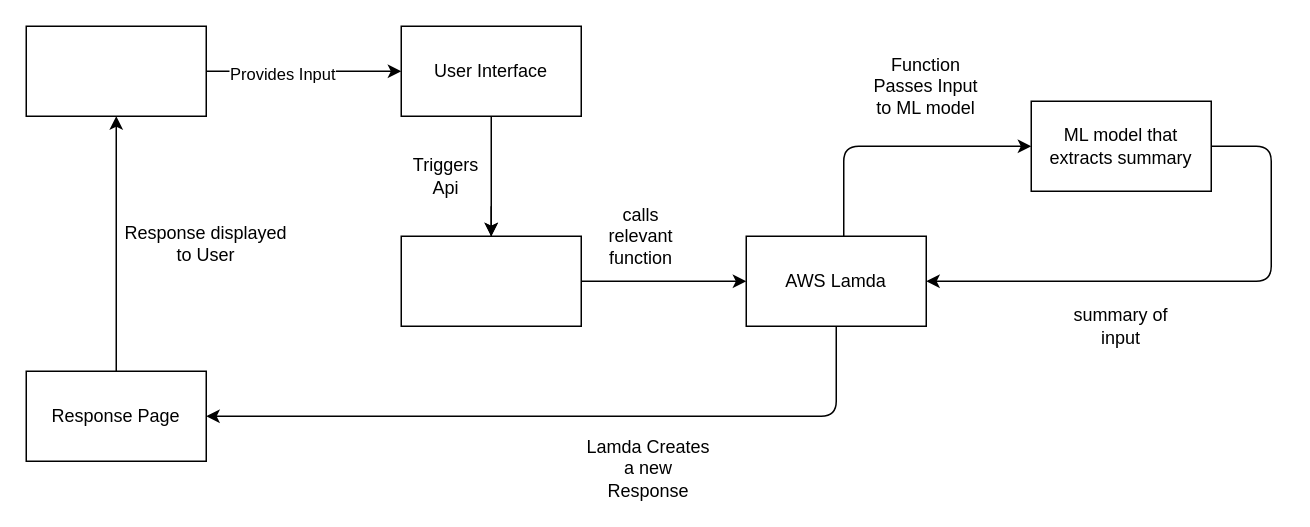
Image size: 1310x527. Some labels were removed from this diagram. Each missing label, with the centre of its shape:
"AWS API GateWay" belongs at point 490,280.
"User" belongs at point 115,70.
